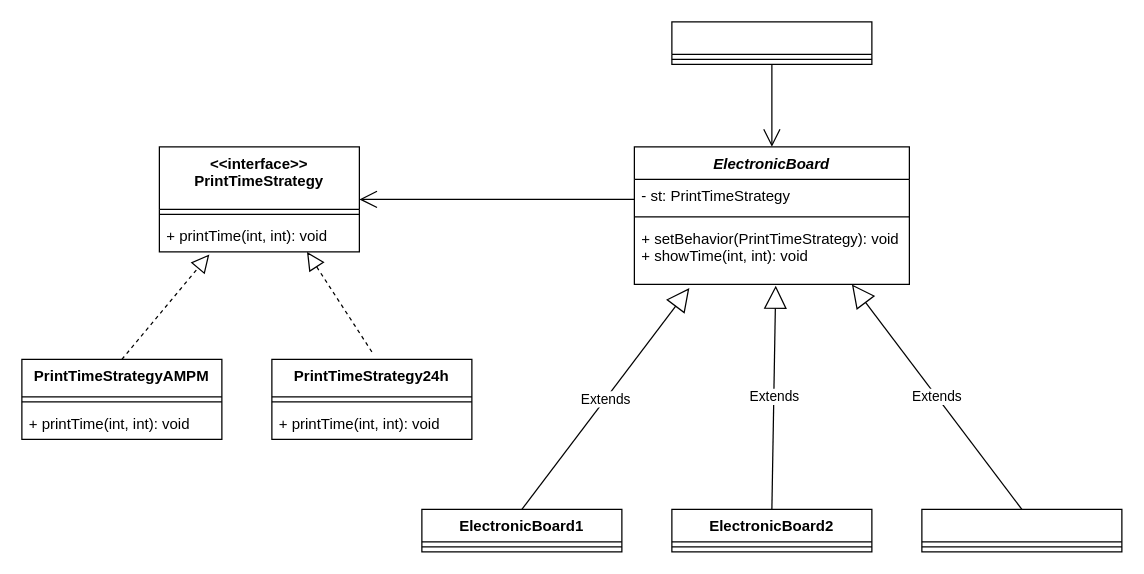
This 1144x574 diagram has some shape labels left out. Each missing label, with the centre of its shape:
Client: the point at 771,42
ElectronicBoard3: the point at 1021,530
